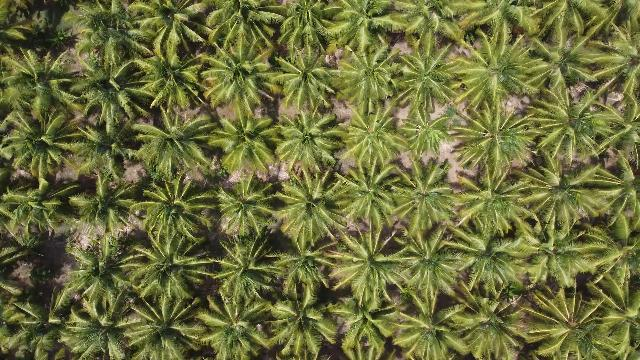trees: (528, 83, 621, 170), (521, 286, 630, 360), (515, 164, 625, 236), (454, 32, 548, 112), (63, 51, 152, 134), (576, 11, 640, 124), (525, 219, 620, 294), (128, 232, 218, 311), (528, 17, 618, 95), (448, 226, 538, 303), (454, 103, 544, 176), (199, 280, 281, 360), (65, 3, 156, 74), (261, 281, 342, 360), (1, 48, 83, 126), (133, 173, 217, 249), (276, 171, 353, 252), (131, 110, 217, 182), (336, 158, 411, 240), (134, 42, 212, 119), (2, 110, 83, 183), (64, 171, 141, 247), (203, 42, 281, 117), (392, 158, 462, 240), (393, 40, 465, 119), (62, 242, 141, 314), (61, 291, 143, 360), (126, 294, 209, 360), (65, 118, 144, 186), (337, 105, 410, 178), (211, 173, 284, 245), (271, 110, 346, 179), (210, 109, 283, 179), (1, 179, 77, 246), (270, 50, 342, 118), (334, 45, 401, 117), (391, 300, 470, 360), (205, 2, 284, 58), (334, 298, 402, 360), (140, 4, 212, 62), (3, 296, 64, 359), (389, 3, 467, 51), (274, 247, 335, 303), (460, 2, 540, 44), (279, 3, 341, 56), (593, 261, 638, 312), (605, 193, 640, 255)
